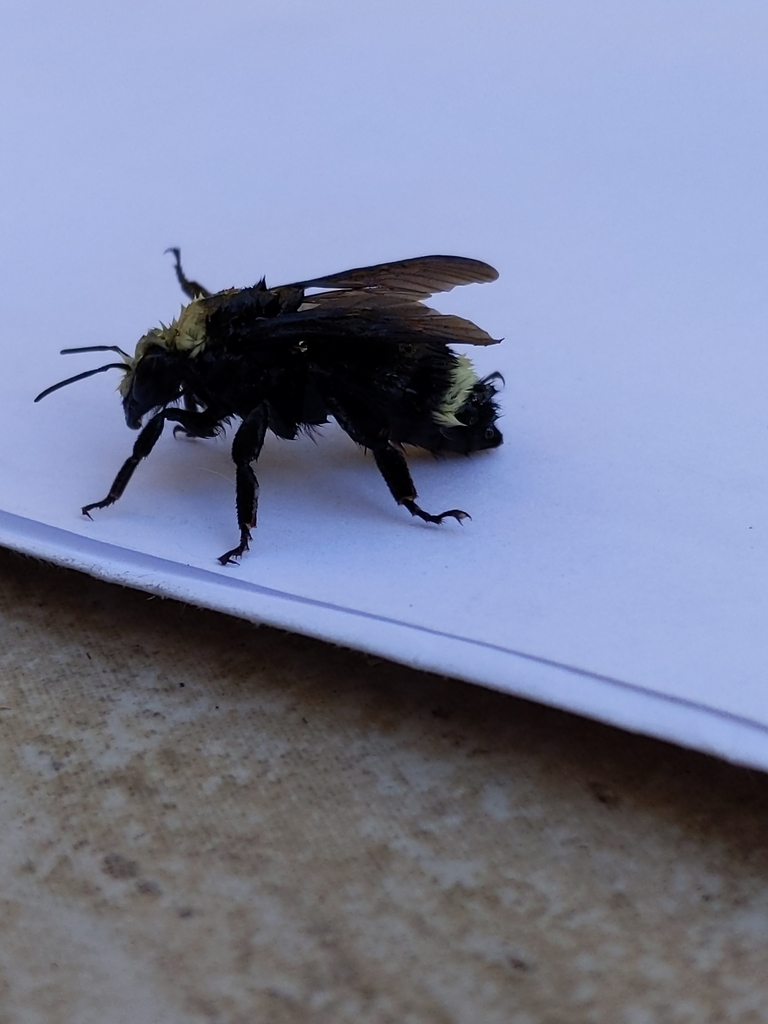bumblebee: (31, 245, 506, 563)
